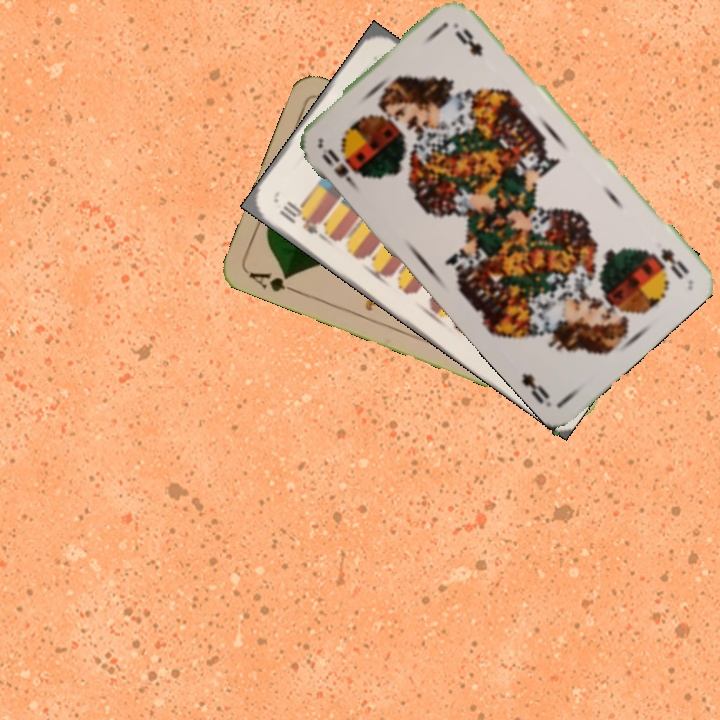E10: (275, 197, 322, 237)
GA: (244, 267, 302, 297)
SO: (318, 144, 367, 192), (656, 244, 692, 282)
